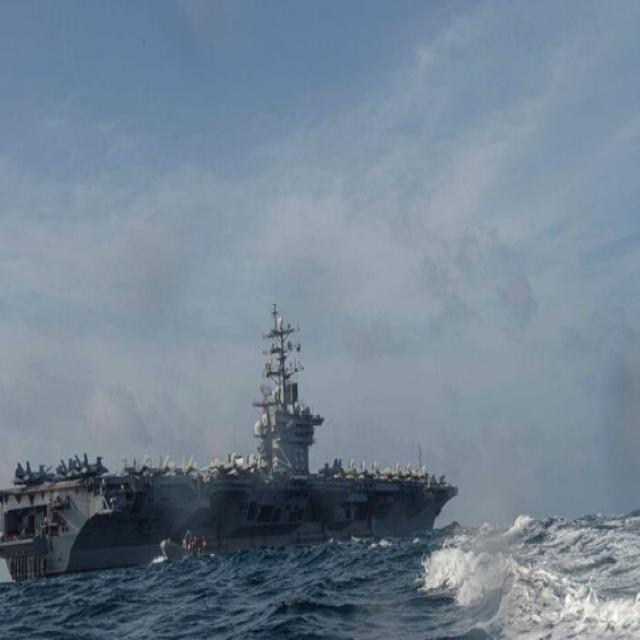navalvessels: (4, 302, 466, 590)
